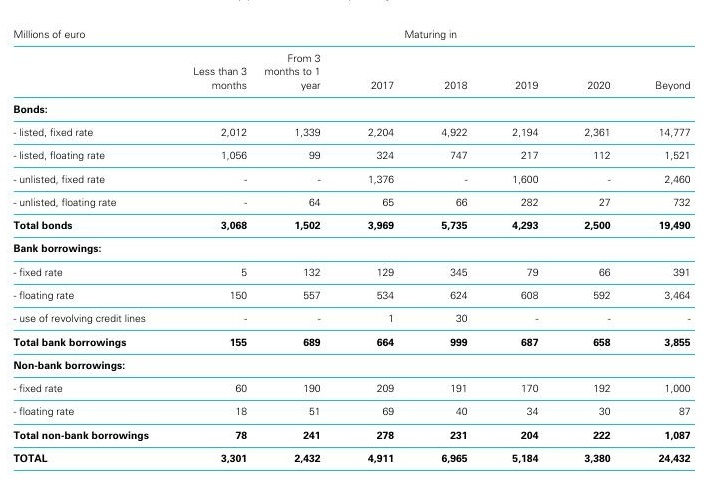table: (0, 0, 712, 482)
